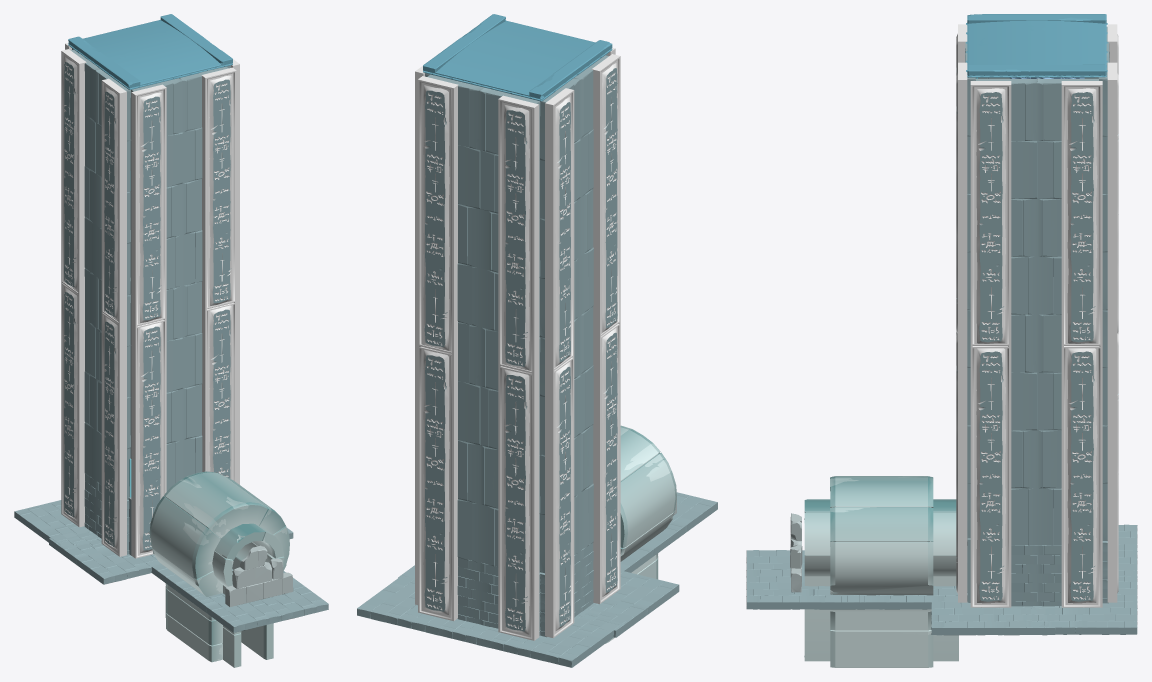
Rendered from shi_liu_ye.glb.
The picture shows the model from 3 angles, left to right: view 1: azimuth 30°, elevation 25°; view 2: azimuth 150°, elevation 25°; view 3: azimuth 270°, elevation 25°; orthographic projection. The views are drawn at different scales.
Visible parts, largest first — view 1: damen, Wall_F1_N, Wall_F1_N__3_, CornerPillar_ES__4_, wall, CornerPillar_ES__3__2, Landing_F7, wall.001, CornerPillar_ES__4__3.001, CornerPillar_ES__4__3, CornerPillar_ES__4_.001, CornerPillar_ES__3__2.001 (+8 smaller); view 2: Wall_F1_N__2_, Wall_F1_N__3_, CornerPillar_ES__4__1, CornerPillar_ES__5_, CornerPillar_ES__4__2, CornerPillar_ES__6_, Landing_F7, CornerPillar_ES__4_.001, CornerPillar_ES__3__2.001, wall.001, CornerPillar_ES__4__3.001, damen (+9 smaller); view 3: damen, Wall_F1_N__1_, CornerPillar_ES__4_.002, wall.002, CornerPillar_ES__4__3.002, CornerPillar_ES__3__2.002, Landing_F7, Tower_Ground__5_, Tower_Ground__3_, Tower_Ground, CornerPillar_ES__4__2, wall (+8 smaller).
Part boxes in pixels (x1,y1,x2,y2): damen: (149,471,289,667); Wall_F1_N: (130,66,228,491); Wall_F1_N__3_: (71,49,130,499); CornerPillar_ES__4_: (131,84,166,328); wall: (201,67,236,311); CornerPillar_ES__3__2: (131,318,166,558); Landing_F7: (68,14,232,89); wall.001: (101,78,126,326); CornerPillar_ES__4__3.001: (101,311,126,556); CornerPillar_ES__4__3: (202,301,236,482); CornerPillar_ES__4_.001: (61,49,86,297); CornerPillar_ES__3__2.001: (61,281,84,527); Wall_F1_N__2_: (427,74,540,572); Wall_F1_N__3_: (540,55,608,573); CornerPillar_ES__4__1: (498,95,539,375); CornerPillar_ES__5_: (498,364,539,640); CornerPillar_ES__4__2: (418,76,458,355); CornerPillar_ES__6_: (418,344,457,621); Landing_F7: (423,14,612,101); CornerPillar_ES__4_.001: (545,88,574,373); CornerPillar_ES__3__2.001: (545,355,574,638); wall.001: (591,54,620,339); CornerPillar_ES__4__3.001: (593,321,620,604); damen: (605,425,676,643); damen: (804,476,958,667); Wall_F1_N__1_: (975,78,1099,545); CornerPillar_ES__4_.002: (970,81,1011,348); wall.002: (1061,81,1102,348); CornerPillar_ES__4__3.002: (1061,344,1102,607); CornerPillar_ES__3__2.002: (970,344,1011,607); Landing_F7: (966,14,1107,77); Tower_Ground__5_: (746,550,870,609); Tower_Ground__3_: (931,586,1055,635); Tower_Ground: (1013,575,1137,634); CornerPillar_ES__4__2: (1107,62,1118,343); wall: (956,62,967,343).
Bounding box in the file's own units: 24.01 × 65.17 × 37.97.
Materials: 13 (6 with a texture image).
